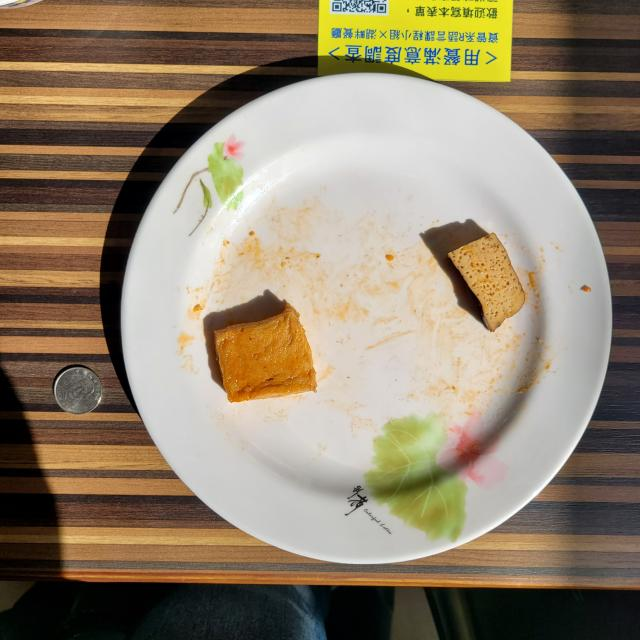coin: (52, 365, 102, 414)
creamy tofu: (214, 304, 316, 402)
firm tofu: (449, 232, 525, 331)
